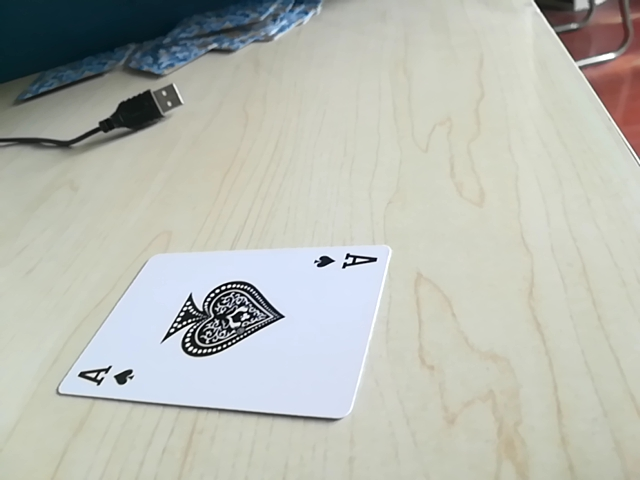ht a: (65, 361, 143, 397), (309, 247, 383, 278)
